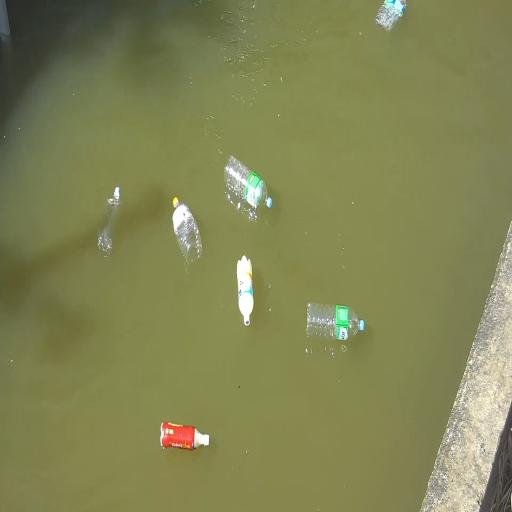plastic: (225, 156, 272, 209), (307, 303, 364, 340), (173, 198, 202, 263), (98, 187, 121, 256), (160, 422, 209, 450), (237, 256, 253, 326)
